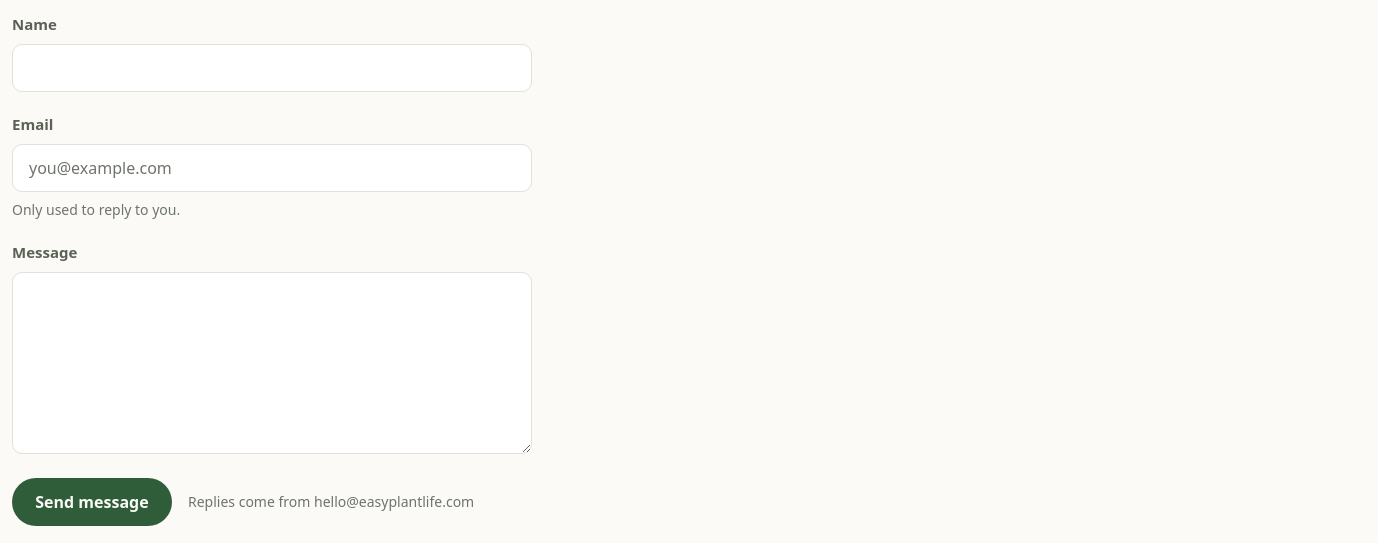
it: Critical Functionality - Forms › Contact Form › posts to the contact API by default and shows the success note
Type "John Doe" into the field labelled "Name".
click(272, 68); type("John Doe")  # box 12,44 -> 532,92
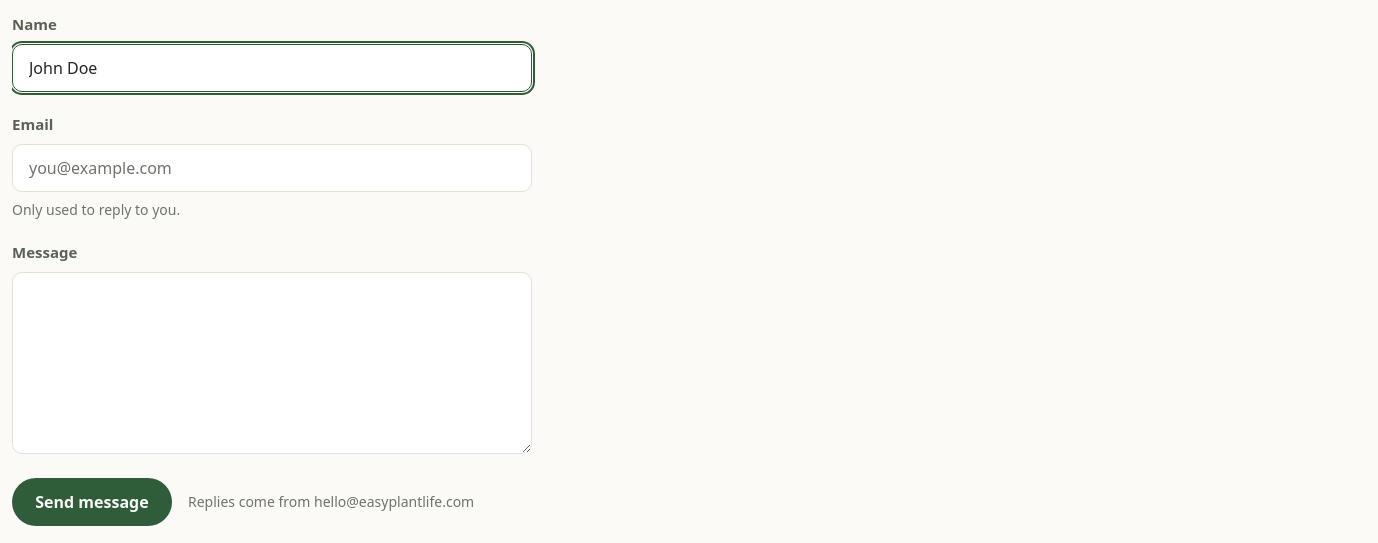
Type "john@example.com" into the field labelled "Email".
click(272, 168); type("john@example.com")  # box 12,144 -> 532,192
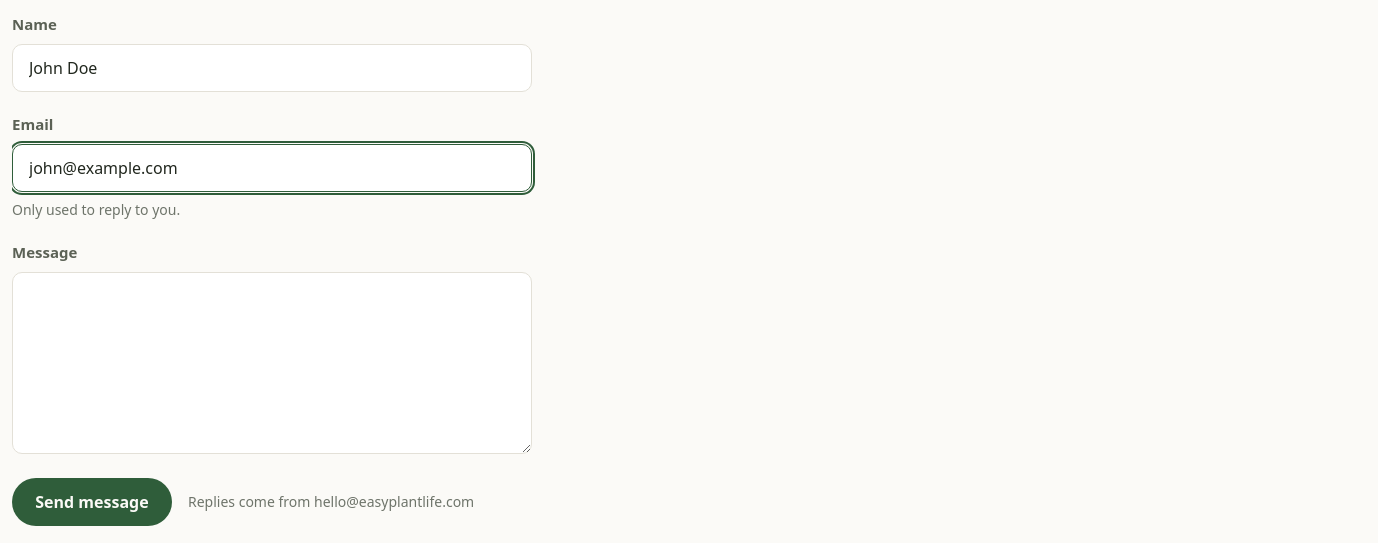
Type "Hello, this is a test message." into the text box labelled "Message".
click(272, 363); type("Hello, this is a test message.")  # box 12,272 -> 532,454
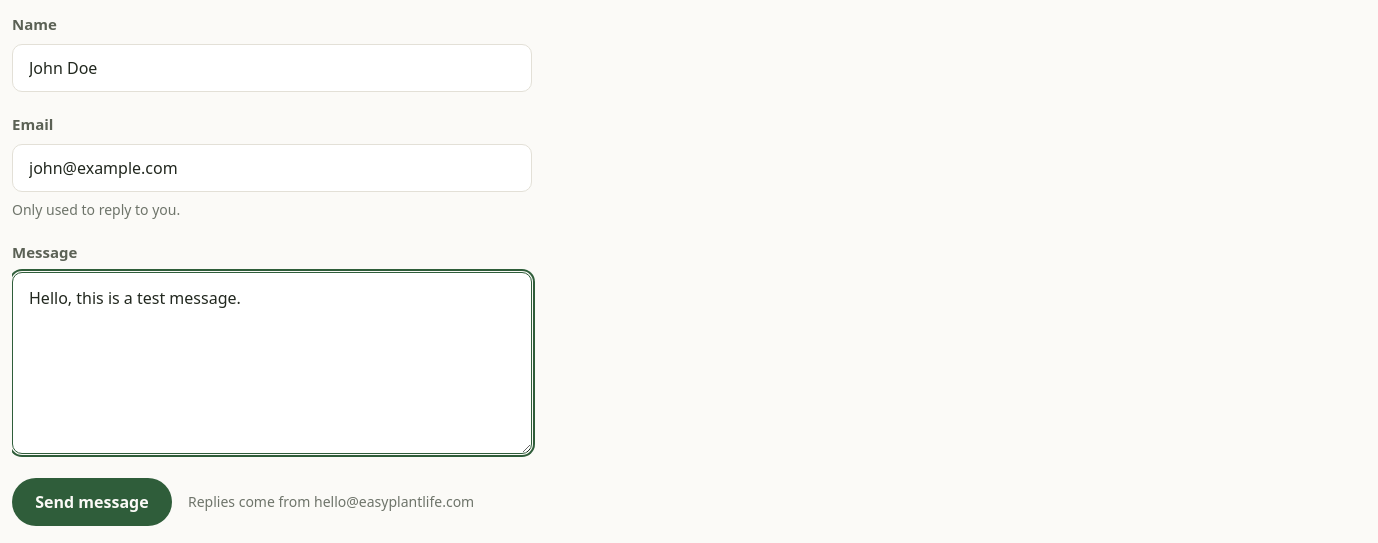
Click the button "Send message".
click(92, 502)  # box 12,478 -> 172,526
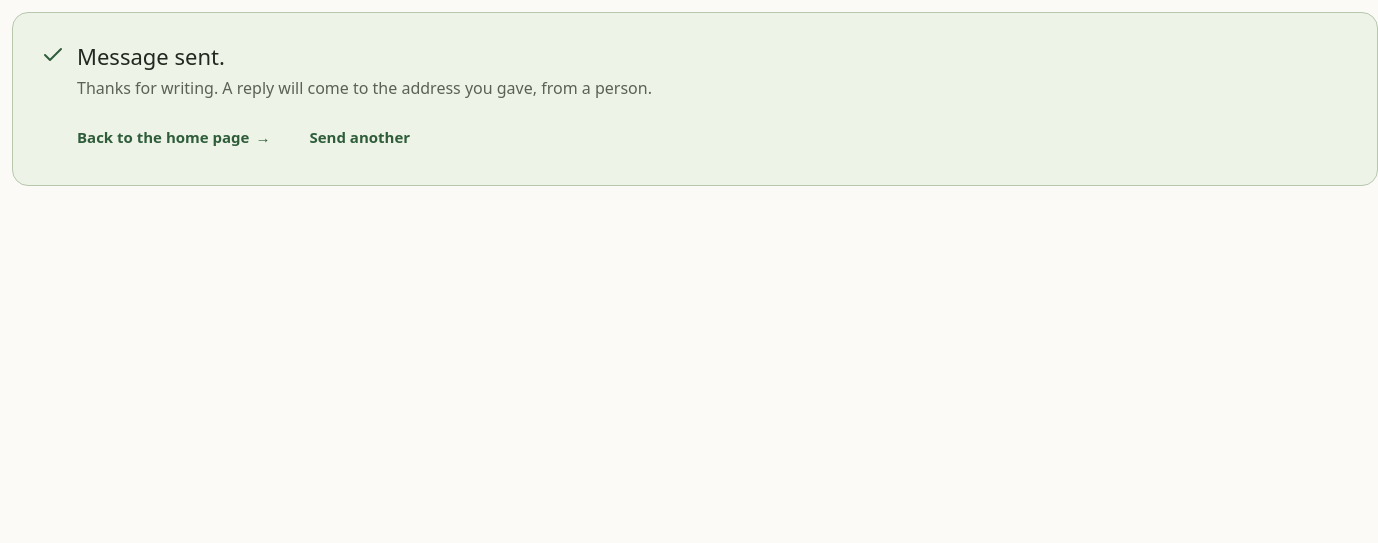
Expected: the message with test id "contact-success" is shown, 12,12 -> 1377,186
Expected: the button "Send another" is shown, 290,117 -> 429,157
